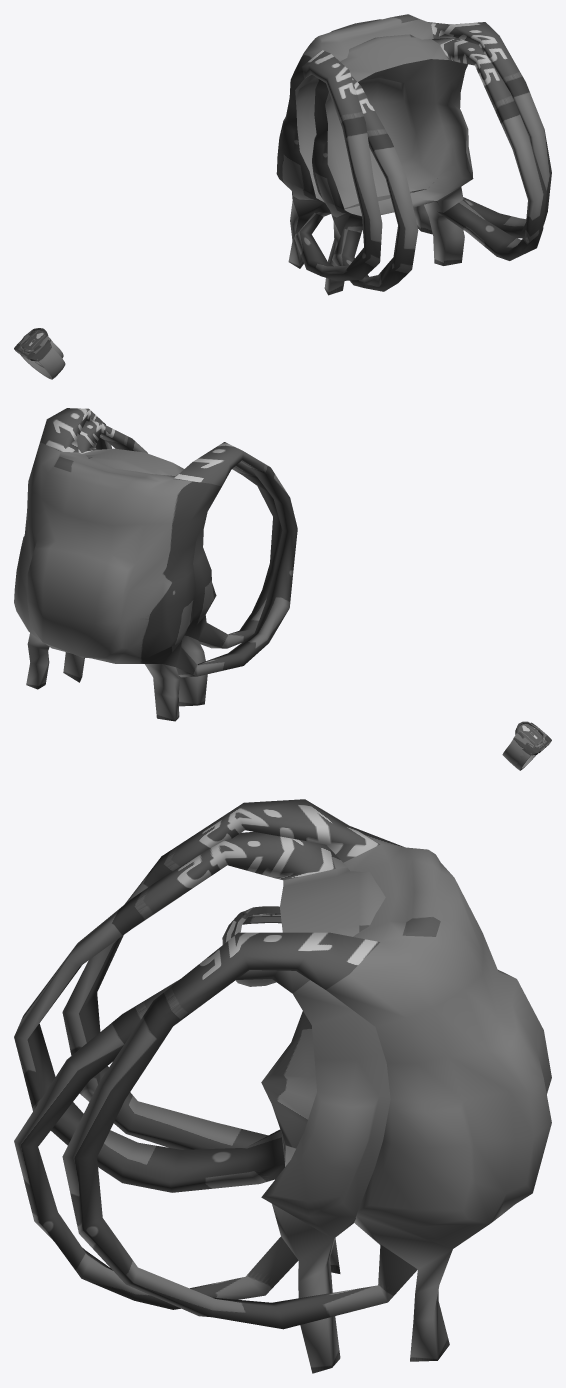
The model's file is PERSONAJES_FIN.fbx_ACCESORIOS.fbx.
3 renders of one model, top to bottom at view 1: azimuth 30°, elevation 25°; view 2: azimuth 150°, elevation 25°; view 3: azimuth 270°, elevation 25°, orthographic. The views are drawn at different scales.
Parts seen in each view (by area): view 1: ACC_F_01, ACC_M_01, ACC_03, ACC_02; view 2: ACC_M_01, ACC_F_01, ACC_02, ACC_03; view 3: ACC_M_01, ACC_F_01, ACC_03.
Boxes of the visible parts, box(x1,y1,x2,y2) form: ACC_F_01: box(312, 34, 546, 295); ACC_M_01: box(276, 14, 551, 281); ACC_03: box(14, 331, 65, 379); ACC_02: box(19, 328, 63, 367); ACC_M_01: box(14, 408, 297, 721); ACC_F_01: box(63, 420, 282, 706); ACC_02: box(502, 721, 544, 763); ACC_03: box(507, 722, 551, 770); ACC_M_01: box(62, 799, 551, 1361); ACC_F_01: box(14, 831, 390, 1373); ACC_03: box(222, 911, 281, 986).
Size of the model in its own units: 82 by 38.72 by 42.67.
